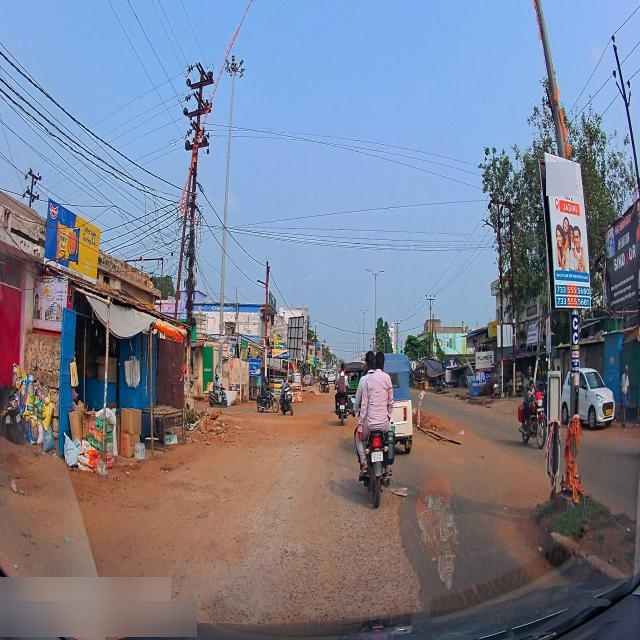pothole: (208, 446, 432, 635)
